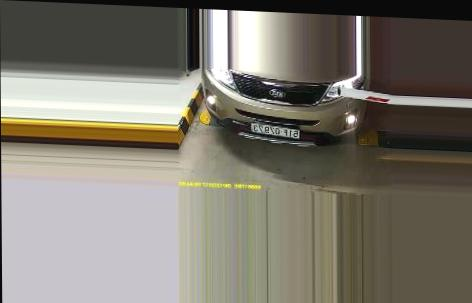License_Plate: (250, 121, 301, 136)
